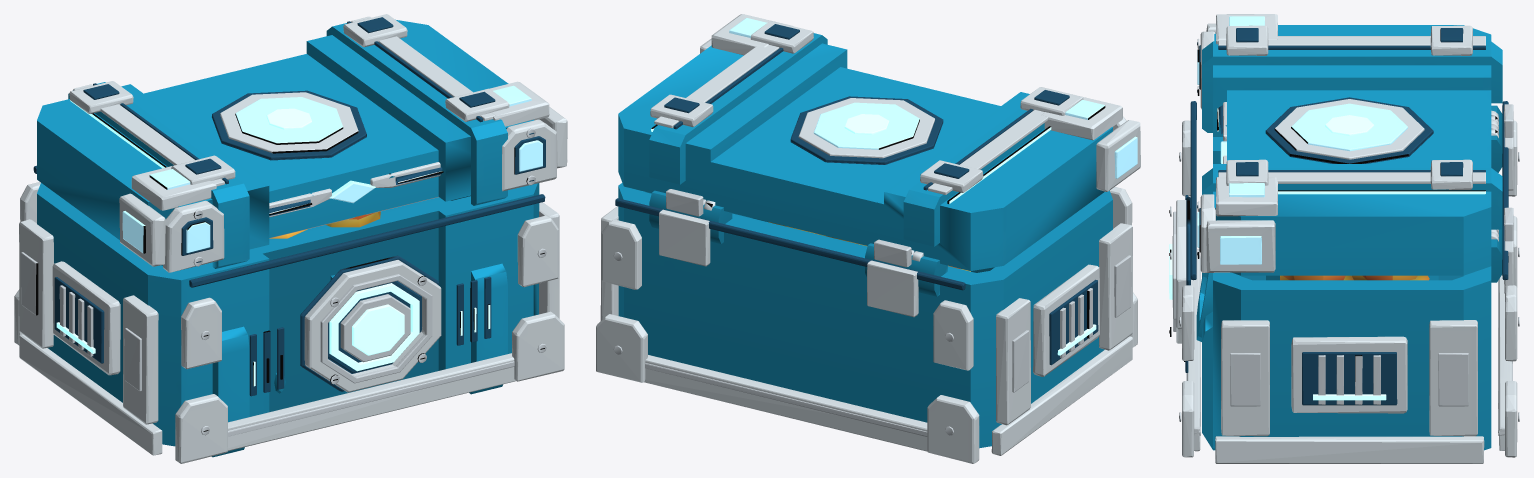
Rendered from frost-relay.glb.
3 views of the same model, side by side, from view 1: azimuth 30°, elevation 25°; view 2: azimuth 150°, elevation 25°; view 3: azimuth 270°, elevation 25° (orthographic).
Parts seen in each view (by area): view 1: Body, LidShell, CoinPile; view 2: Body, LidShell; view 3: LidShell, Body, CoinPile.
Boxes of the visible parts, x1=… form: Body: x1=14, y1=165, x2=564, y2=463; LidShell: x1=37, y1=14, x2=567, y2=272; CoinPile: x1=270, y1=211, x2=380, y2=238; Body: x1=596, y1=183, x2=1137, y2=463; LidShell: x1=618, y1=14, x2=1140, y2=270; LidShell: x1=1197, y1=14, x2=1513, y2=275; Body: x1=1169, y1=101, x2=1519, y2=463; CoinPile: x1=1280, y1=275, x2=1429, y2=280.
Size of the model in its own units: 2.2 by 1.35 by 1.55.
Materials: 2 (2 with a texture image).
